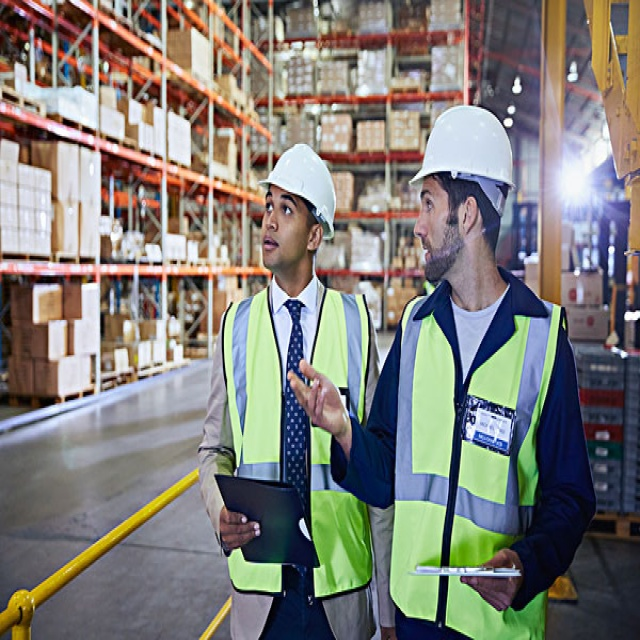Helmet: (404, 99, 524, 325), (247, 130, 342, 292)
Reflective vest: (386, 287, 560, 640), (220, 280, 378, 598)
